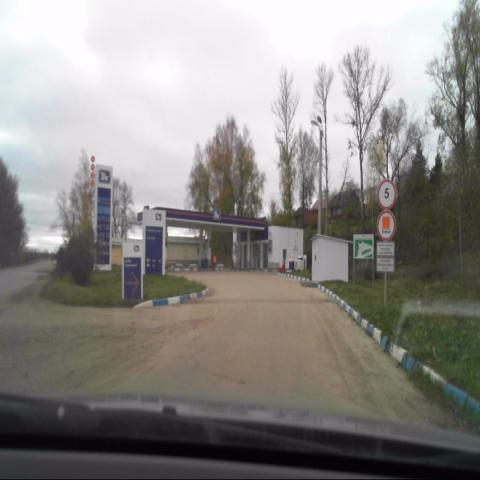3_32: (378, 212, 396, 242)
